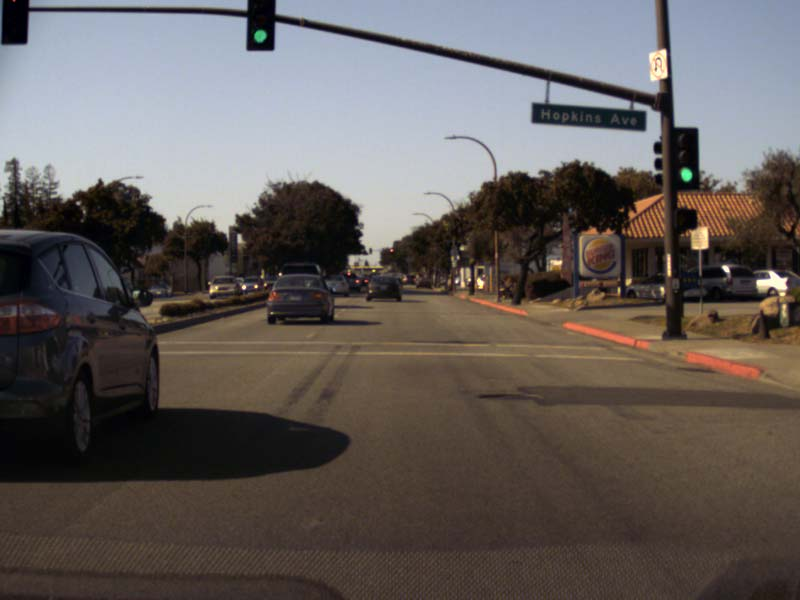Green: (671, 126, 698, 189)
Red: (389, 248, 394, 258)
